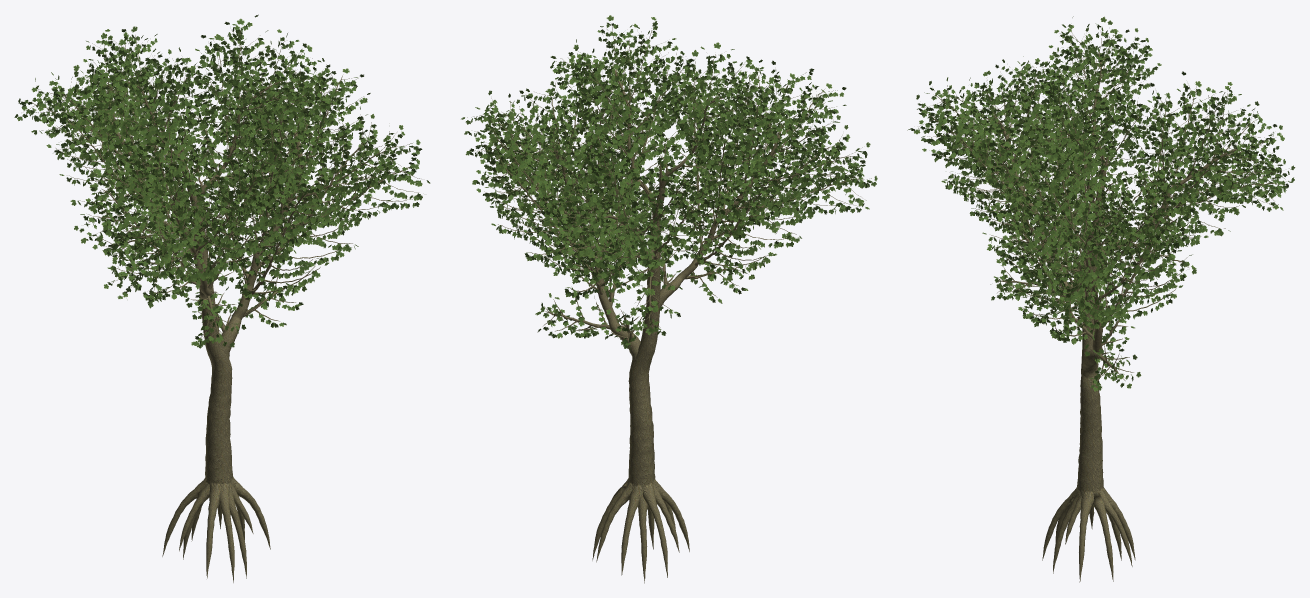
The model's file is MESH_EU01_AcerCampestre_M_LOD0.fbx.
The picture shows the model from 3 angles, left to right: view 1: azimuth 30°, elevation 25°; view 2: azimuth 150°, elevation 25°; view 3: azimuth 270°, elevation 25°; orthographic projection. The views are drawn at different scales.
Visible parts, largest first — view 1: MI_LOD0_001, MI_LOD0; view 2: MI_LOD0_001, MI_LOD0; view 3: MI_LOD0_001, MI_LOD0.
Boxes of the visible parts, box(x1,y1,x2,y2) form: MI_LOD0_001: box(14, 14, 430, 348); MI_LOD0: box(28, 28, 419, 582); MI_LOD0_001: box(461, 15, 877, 349); MI_LOD0: box(467, 23, 871, 583); MI_LOD0_001: box(907, 16, 1295, 391); MI_LOD0: box(919, 27, 1286, 582).
Bounding box in the file's own units: 510 × 707 × 484.
